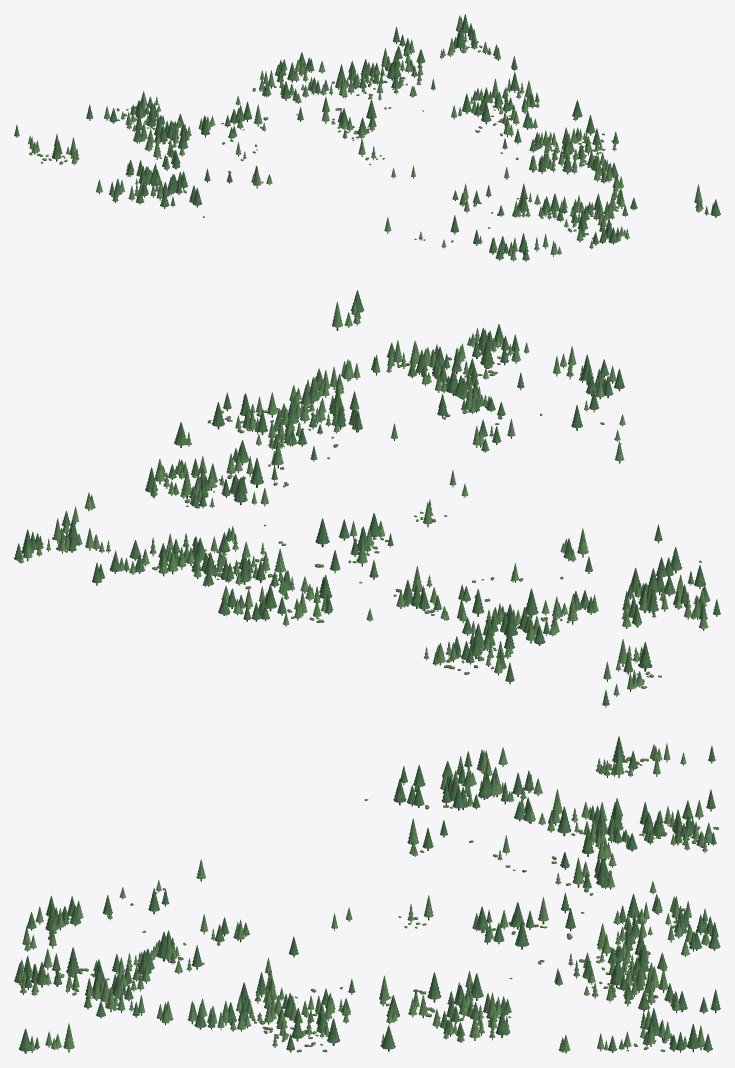
Rendered from Foliage_P2.fbx.
3 views of the same model, one above another, from view 1: azimuth 30°, elevation 25°; view 2: azimuth 150°, elevation 25°; view 3: azimuth 270°, elevation 25° (orthographic). The views are drawn at different scales.
Bounding box in the file's own units: 61474 × 5094 × 61555.
